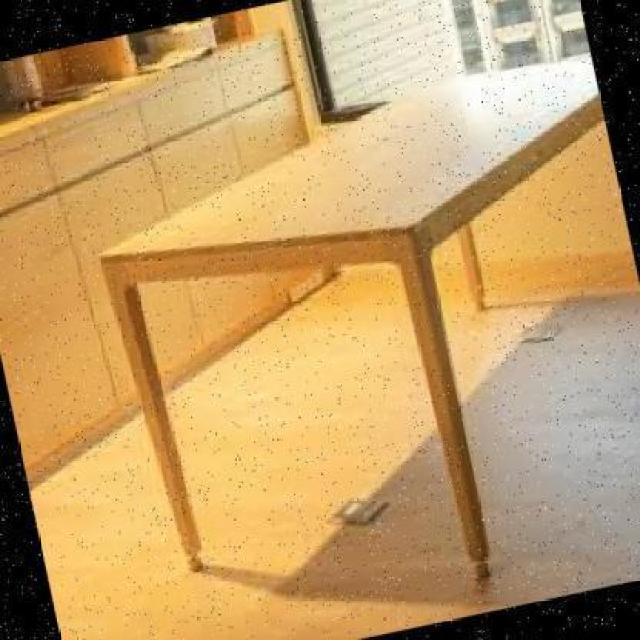tables: (95, 48, 632, 580)
